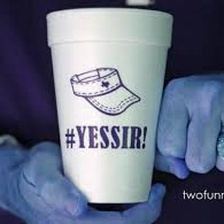paper_cup: (41, 3, 177, 210)
